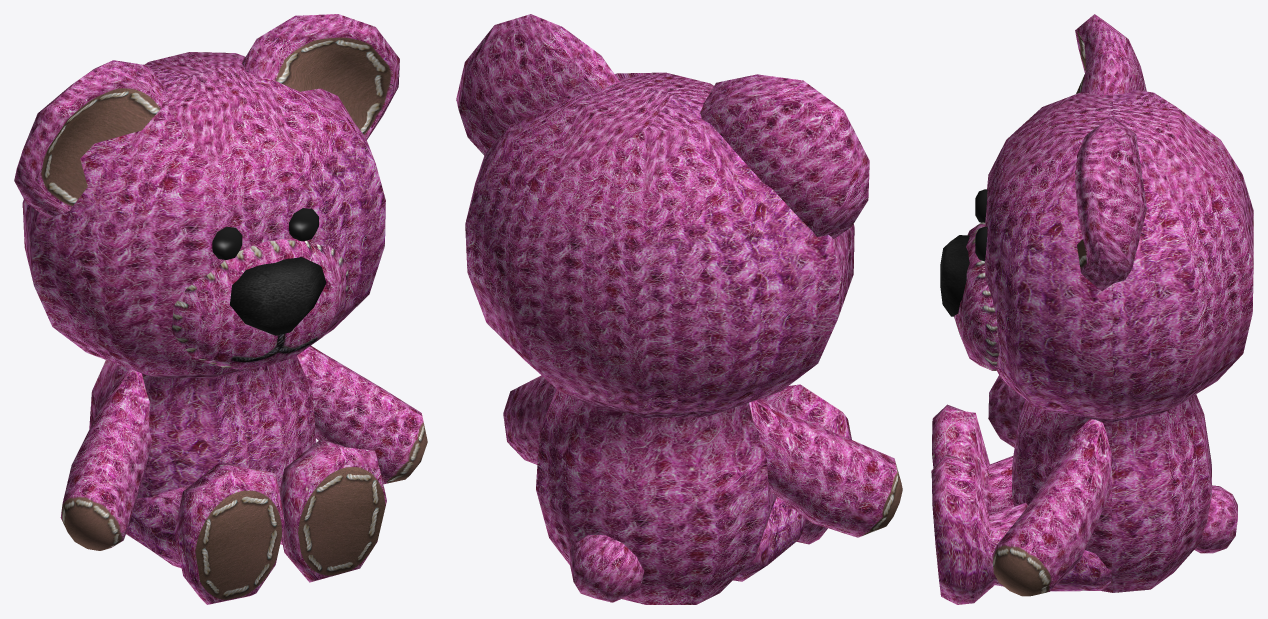
File: TeddySitting.fbx
The picture shows the model from 3 angles, left to right: view 1: azimuth 30°, elevation 25°; view 2: azimuth 150°, elevation 25°; view 3: azimuth 270°, elevation 25°; orthographic projection. The views are drawn at different scales.
Parts seen in each view (by area): view 1: teddy1; view 2: teddy1; view 3: teddy1.
Part boxes in pixels (x1,y1,x2,y2): teddy1: (14, 14, 427, 604); teddy1: (456, 14, 902, 604); teddy1: (931, 14, 1253, 604).
Bounding box in the file's own units: 1215 × 1510 × 881.
Materials: 1 (1 with a texture image).
